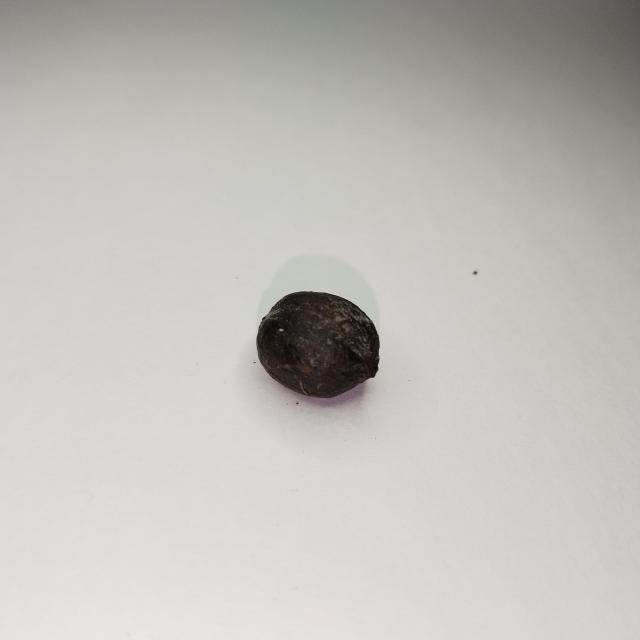Danado: (256, 292, 380, 398)
